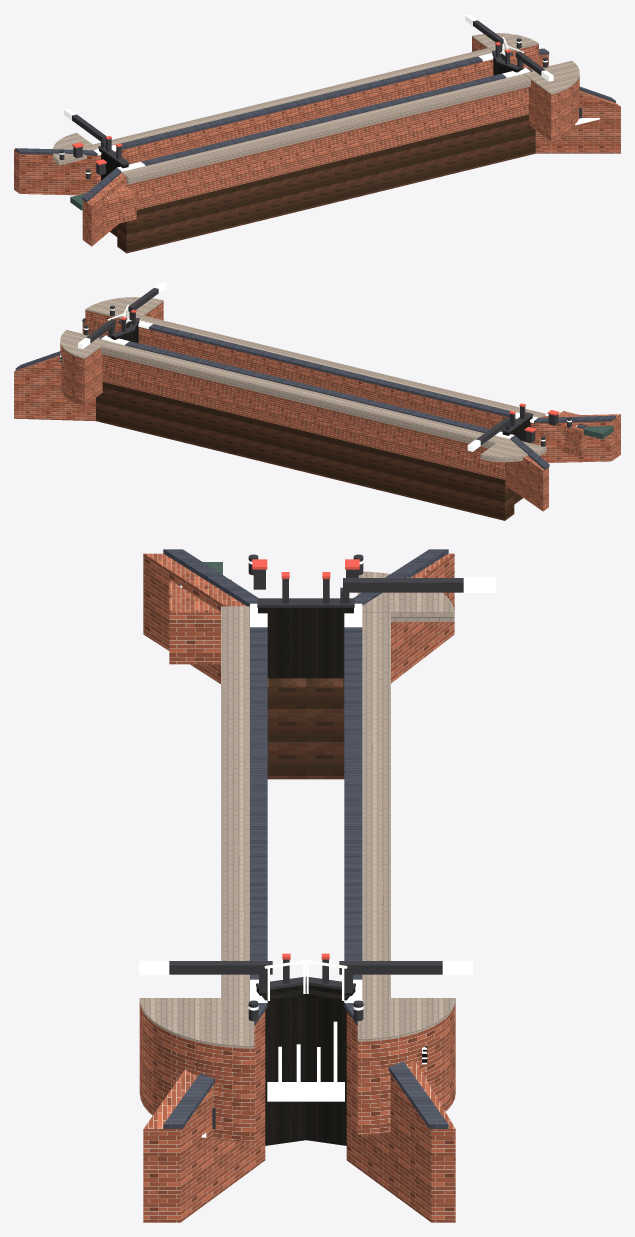
The model's file is lock-32.glb.
The picture shows the model from 3 angles, top to bottom: view 1: azimuth 30°, elevation 25°; view 2: azimuth 150°, elevation 25°; view 3: azimuth 270°, elevation 25°; orthographic projection. The views are drawn at different scales.
Visible parts, largest first — view 1: Chamber, ChamberWet, Edge, Coping.001, TopGateCap, Coping, TopGate; view 2: Chamber, ChamberWet, Edge, Coping.001, TopGateCap, Coping, TopGate; view 3: Chamber, Edge, Coping.001, TopGate, TopGateCap, ChamberWet, Coping, Leak.
Part boxes in pixels (box(x1,y1,x2,y2)): Chamber: box(14, 37, 620, 246); ChamberWet: box(110, 114, 535, 253); Edge: box(53, 33, 579, 184); Coping.001: box(15, 48, 615, 202); TopGateCap: box(59, 20, 581, 179); Coping: box(59, 14, 553, 173); TopGate: box(99, 53, 523, 180); Chamber: box(14, 302, 620, 511); ChamberWet: box(96, 382, 522, 520); Edge: box(60, 297, 546, 462); Coping.001: box(15, 318, 615, 469); TopGateCap: box(84, 288, 571, 446); Coping: box(78, 282, 571, 451); TopGate: box(108, 321, 532, 442); Chamber: box(139, 553, 455, 1222); Edge: box(139, 571, 455, 1048); Coping.001: box(163, 549, 448, 1128); TopGate: box(256, 607, 355, 1145); TopGateCap: box(169, 554, 463, 1128); ChamberWet: box(267, 678, 344, 779); Coping: box(139, 560, 495, 1010); Leak: box(180, 585, 344, 1137).
Size of the model in its own units: 33.16 by 5.78 by 9.66.
11 materials, 8 textured.
